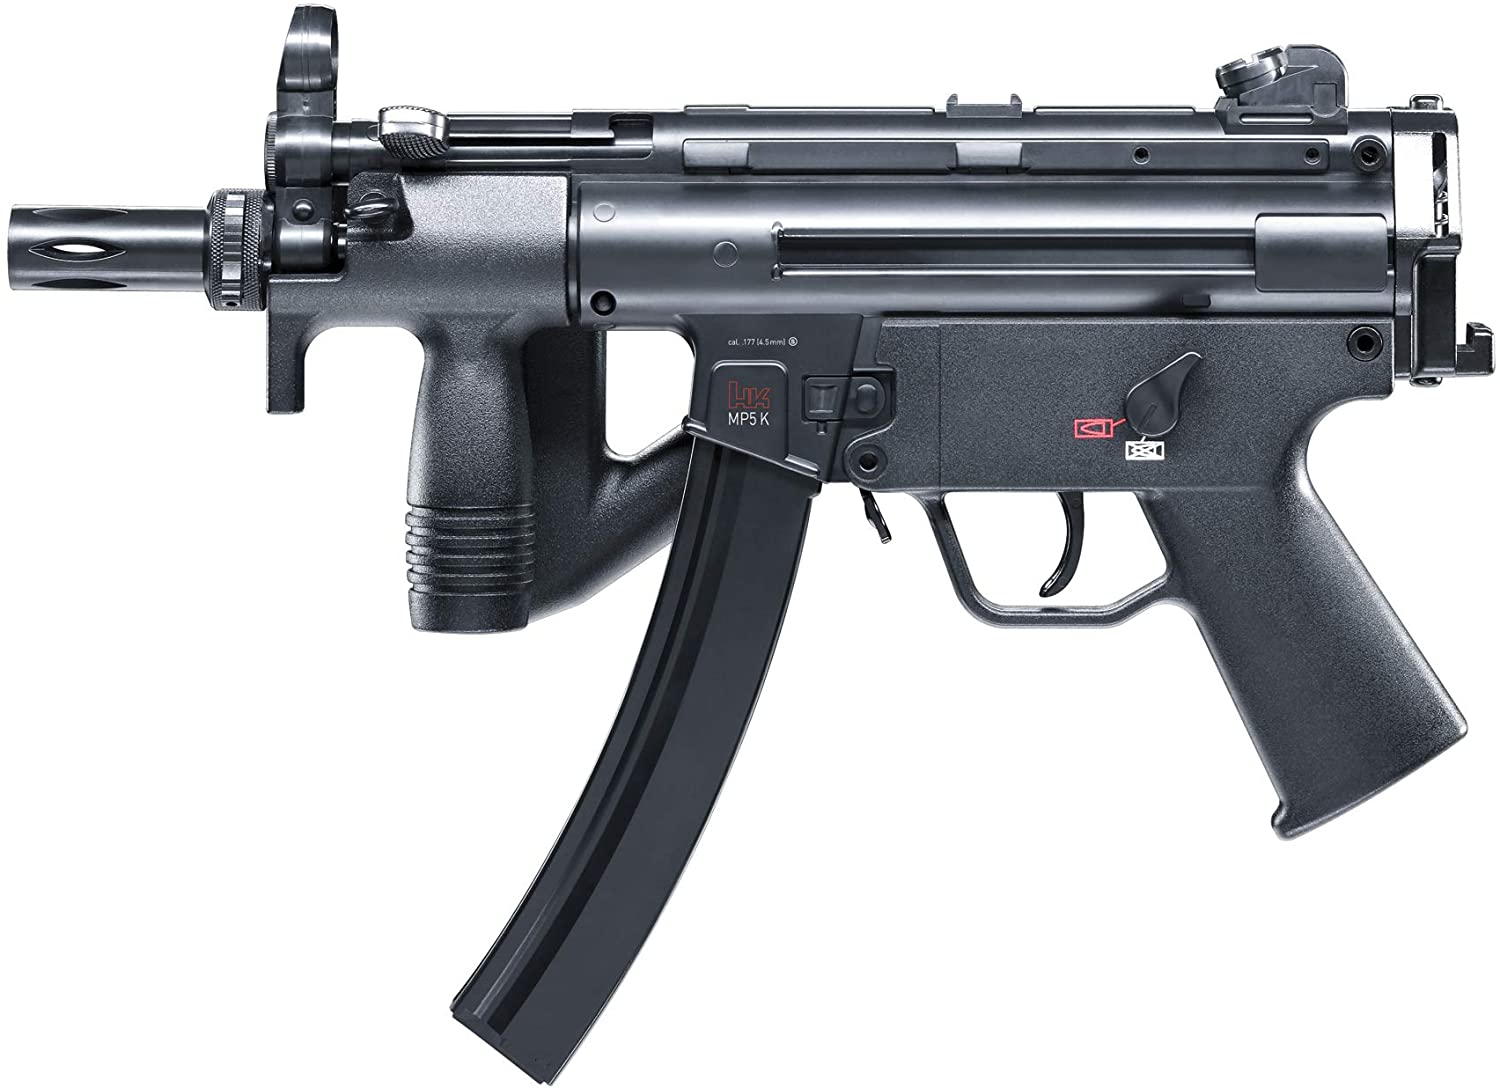Arma Real: (7, 6, 1485, 1061)
